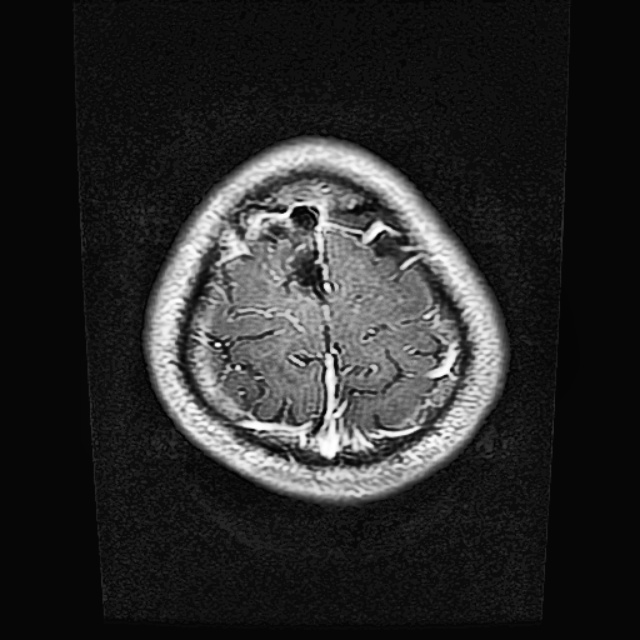Glioma: (285, 243, 329, 297)
